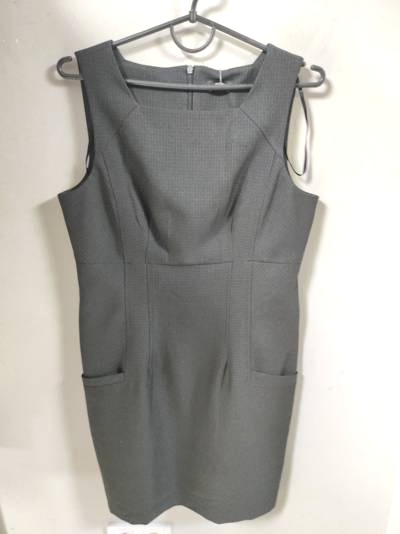Dress: (15, 23, 340, 534)
